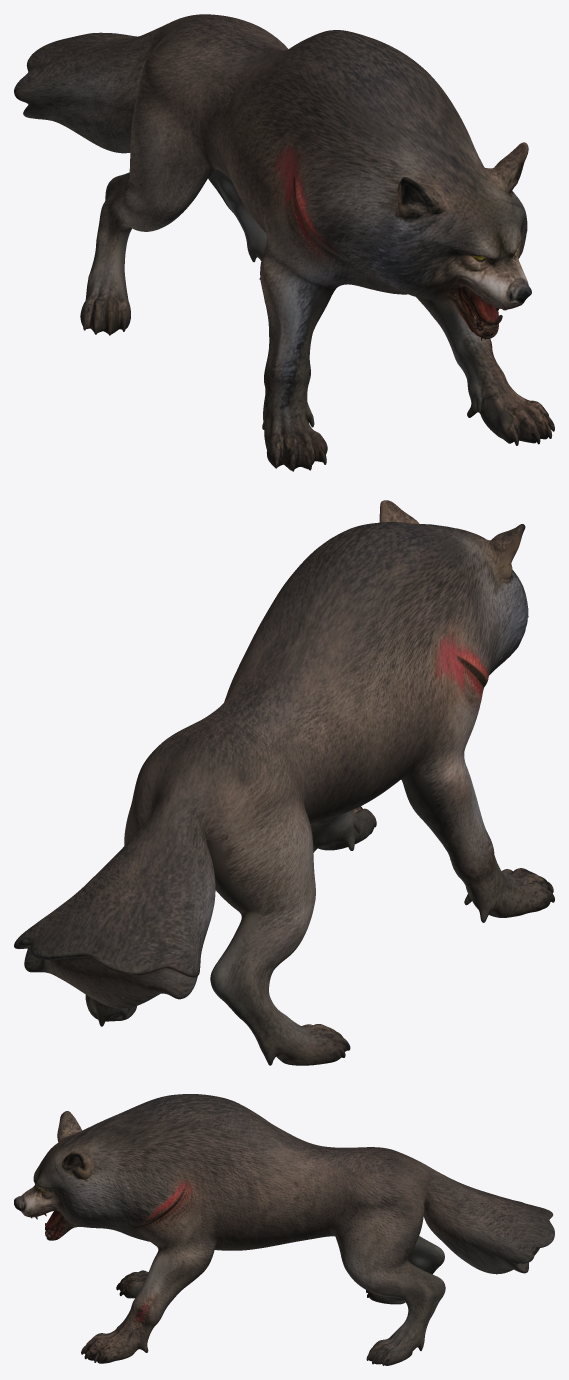
Rendered from enemy_beast_dire_wolf_01.glb.
3 renders of one model, top to bottom at view 1: azimuth 30°, elevation 25°; view 2: azimuth 150°, elevation 25°; view 3: azimuth 270°, elevation 25°, orthographic. The views are drawn at different scales.
Parts seen in each view (by area): view 1: material; view 2: material; view 3: material.
Part boxes in pixels (bbox=[...]): material: bbox=[14, 14, 554, 471]; material: bbox=[14, 500, 554, 1065]; material: bbox=[14, 1094, 554, 1365].
Size of the model in its own units: 0.4078 by 0.5647 by 1.19.
Materials: 1 (1 with a texture image).
